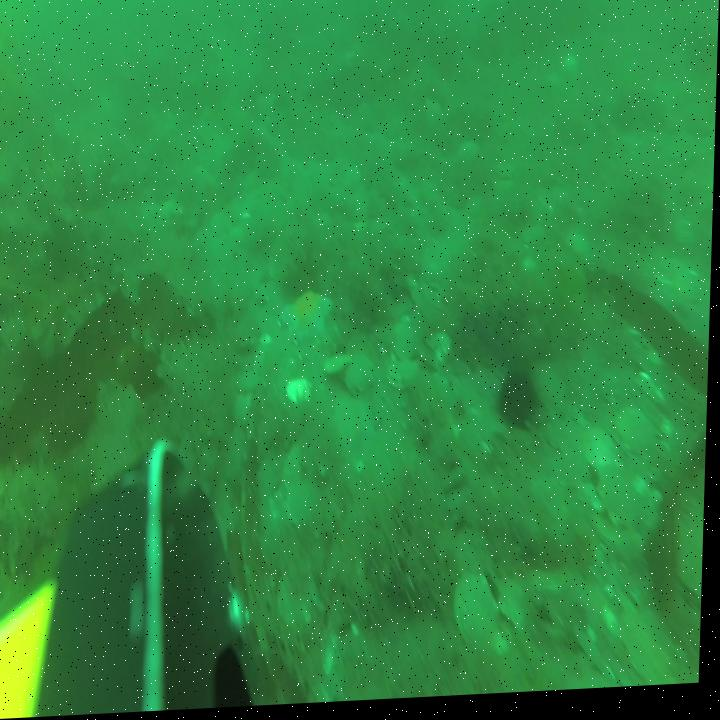echinus: (494, 364, 545, 437)
scallop: (621, 603, 677, 692), (455, 571, 506, 658), (595, 463, 649, 538), (619, 404, 662, 472), (279, 568, 321, 633), (584, 428, 625, 484), (343, 353, 379, 405), (285, 484, 322, 532), (549, 417, 586, 461), (408, 283, 441, 325), (388, 361, 424, 397), (285, 443, 308, 492), (286, 377, 317, 410), (323, 352, 357, 382), (522, 224, 550, 258), (233, 394, 256, 434), (210, 209, 235, 242), (495, 161, 521, 190), (238, 371, 262, 395), (344, 167, 363, 195)
starfish: (281, 288, 335, 352), (332, 394, 383, 461)
